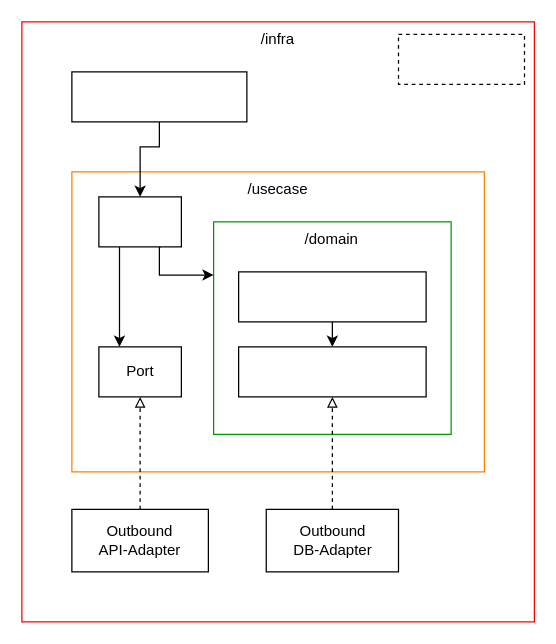
The diagram is 556 pixels wide and 644 high, and some of its shapes have lost their labels. The shapes that lost their labels are listed below. From the top down, each one's box as (x1, y1, x2, y2) in pixels, then its label:
(397, 33, 524, 84): ddd onion with ports & adapter
(71, 71, 247, 122): Inbound API-Adapter
(98, 196, 181, 247): UseCases
(237, 271, 426, 322): Domain
